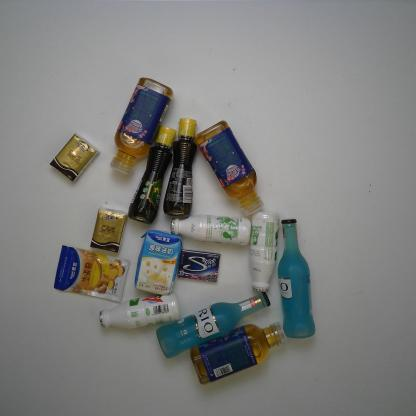Alcohol: (155, 291, 272, 360), (276, 216, 318, 342)
Drink: (192, 119, 268, 219), (109, 74, 175, 176), (189, 320, 289, 385)
Gum: (176, 248, 220, 284)
Milk: (133, 229, 185, 298), (167, 212, 254, 250), (98, 295, 186, 332), (248, 207, 282, 295)
Seasoner: (127, 122, 176, 226), (52, 244, 133, 304), (162, 117, 200, 221)
Tissue: (46, 131, 101, 184), (89, 206, 128, 254)
